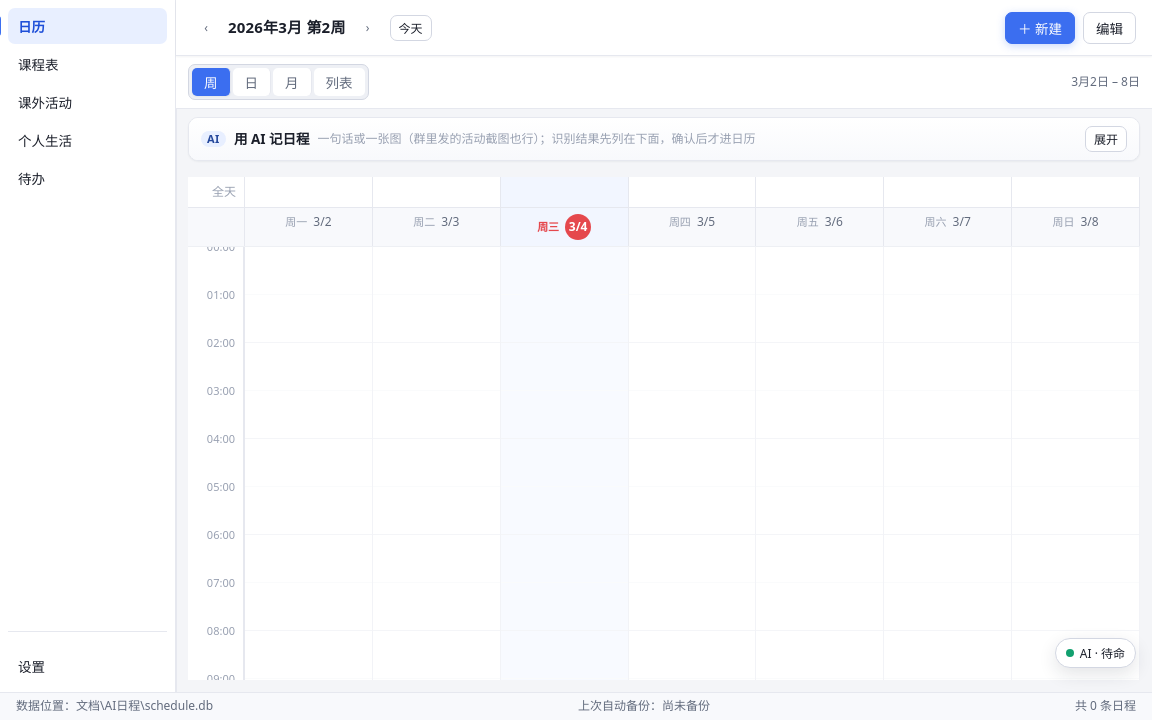
Test: 界面上的重复待办 › 翻到下一周也能看到下一次
Click the button named "下一页". click: (368, 28)
box: x1=354 y1=14 x2=382 y2=40
(page scrolled)
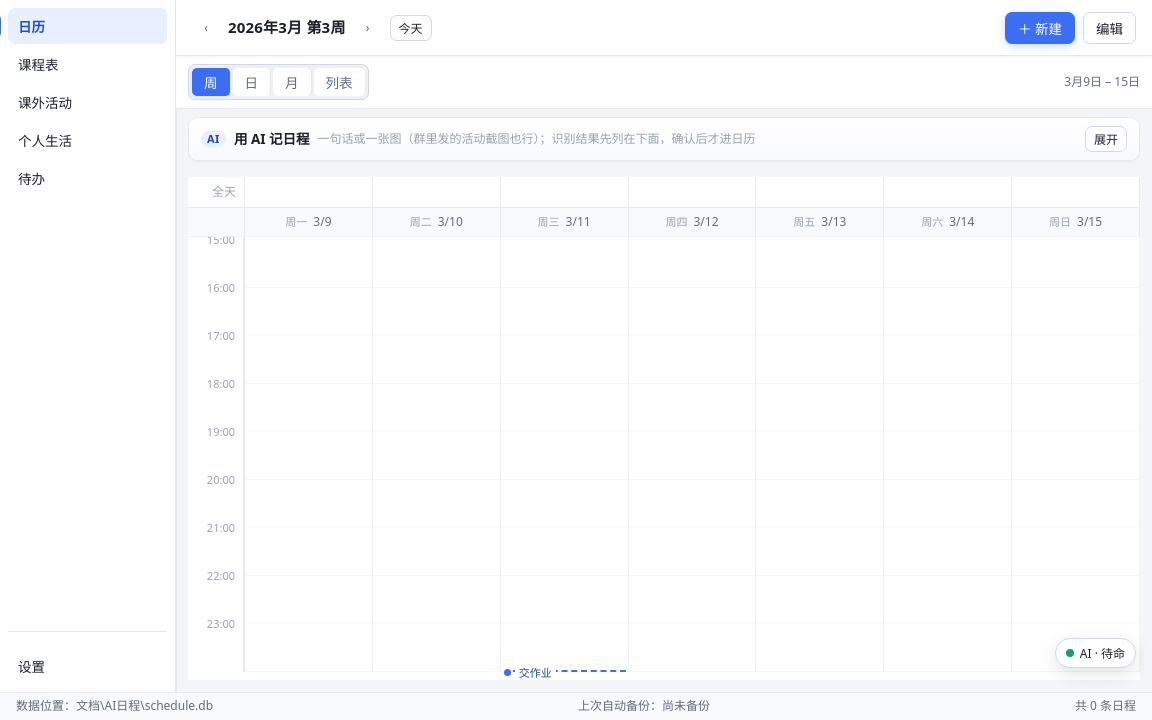
Expected: the button with test id "marker-t1#2026-03-11" is shown, x1=503 y1=670 x2=626 y2=672
